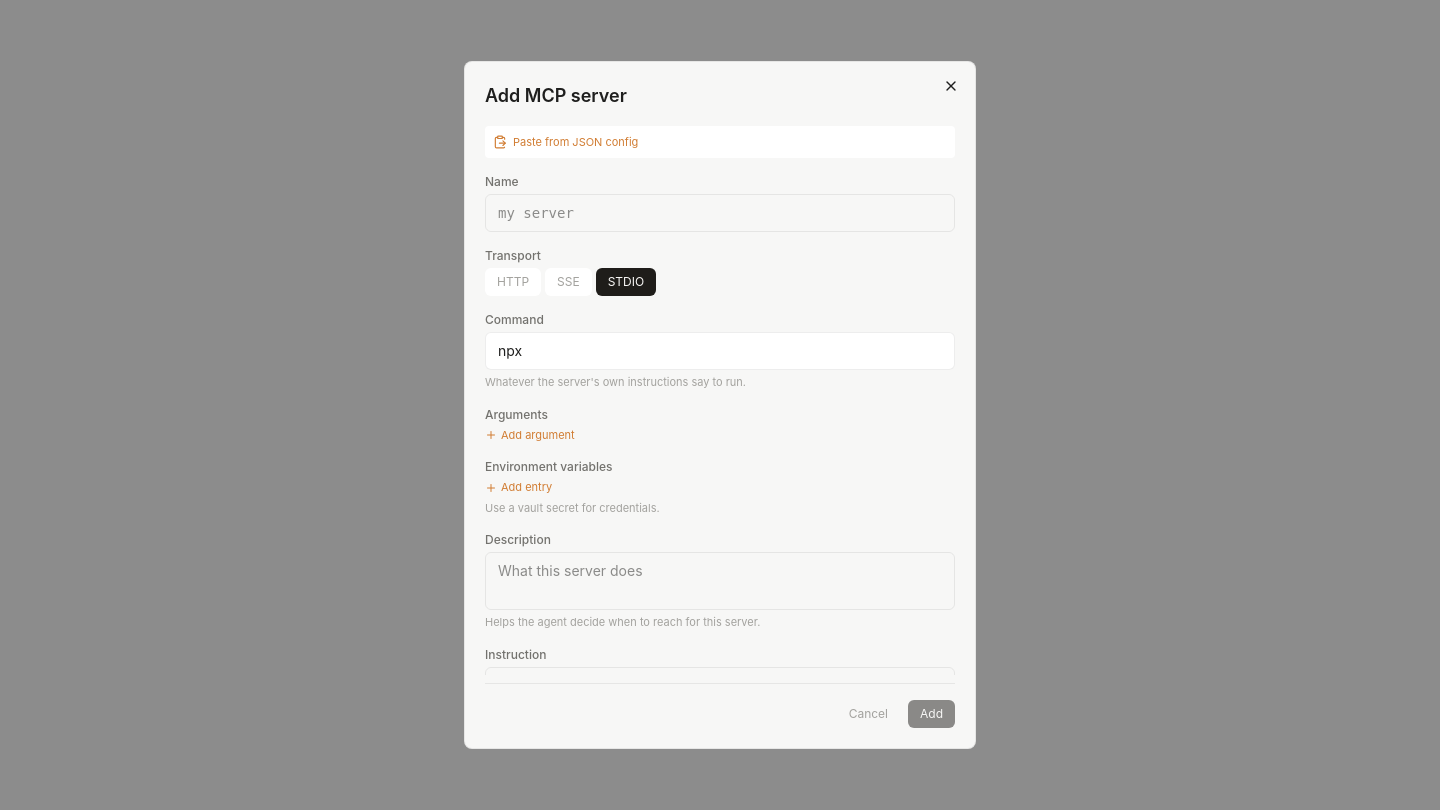
Test: McpServerModal — conditional fields per transport › switches to URL + Headers when transport is http
Click the button "http".
click(513, 282)  # box [485,268,541,296]
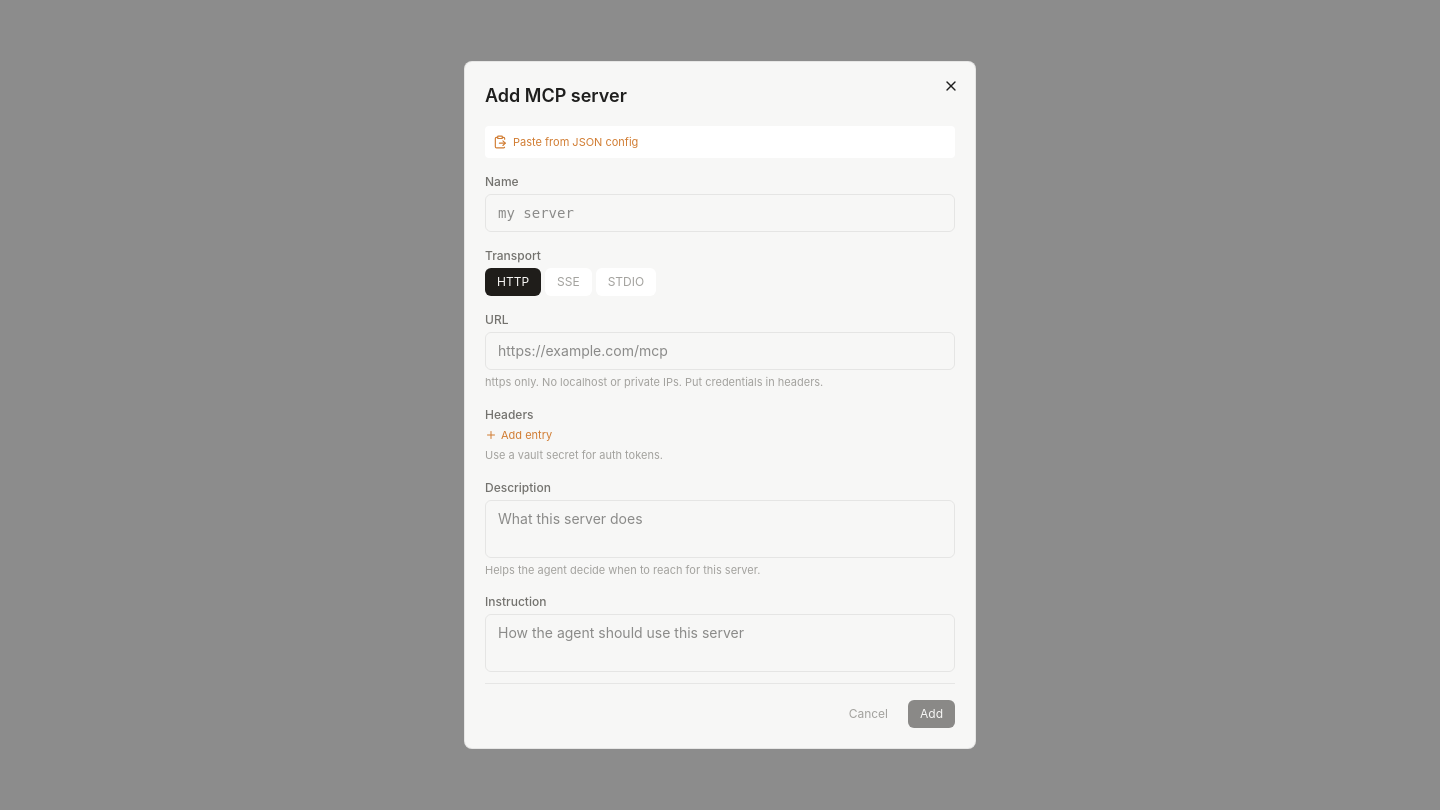
Check: the text "URL" is shown, box [485,312,508,327]
Check: the text "Headers" is shown, box [485,407,534,422]
Check: the text "Command" is gone
